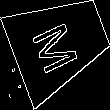M_NE: (31, 12, 87, 74)
